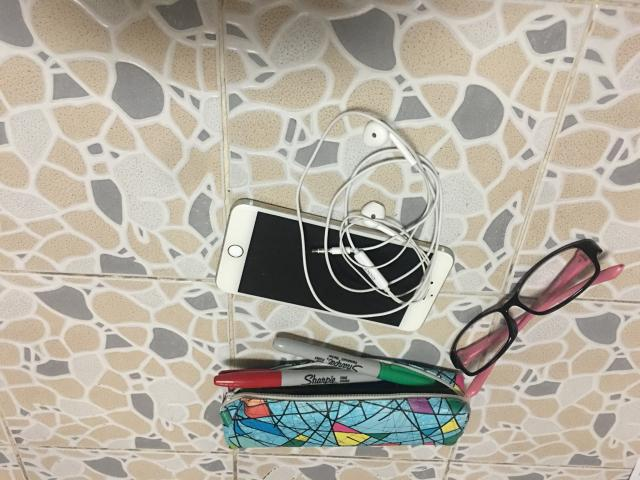Glasses: (450, 239, 601, 376)
Mobile phone: (216, 199, 454, 330)
Pen: (274, 338, 450, 388), (214, 368, 380, 389)
wire: (296, 110, 440, 319)
